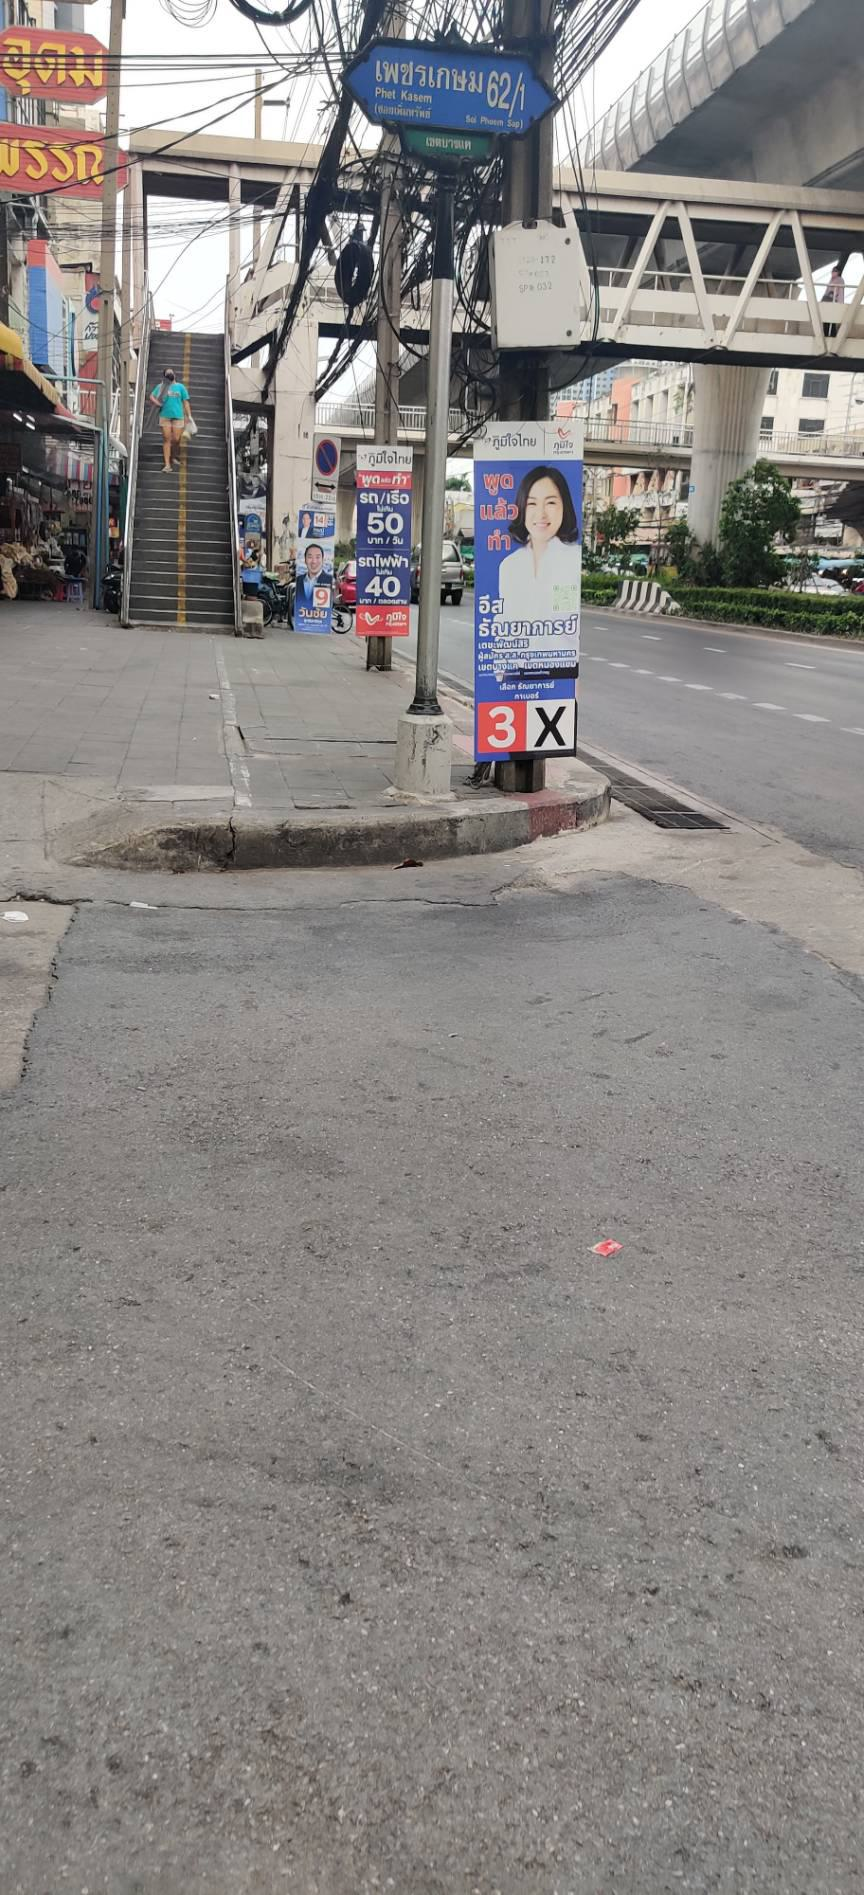Banner: (471, 408, 572, 759), (349, 441, 414, 639), (297, 514, 340, 628)
